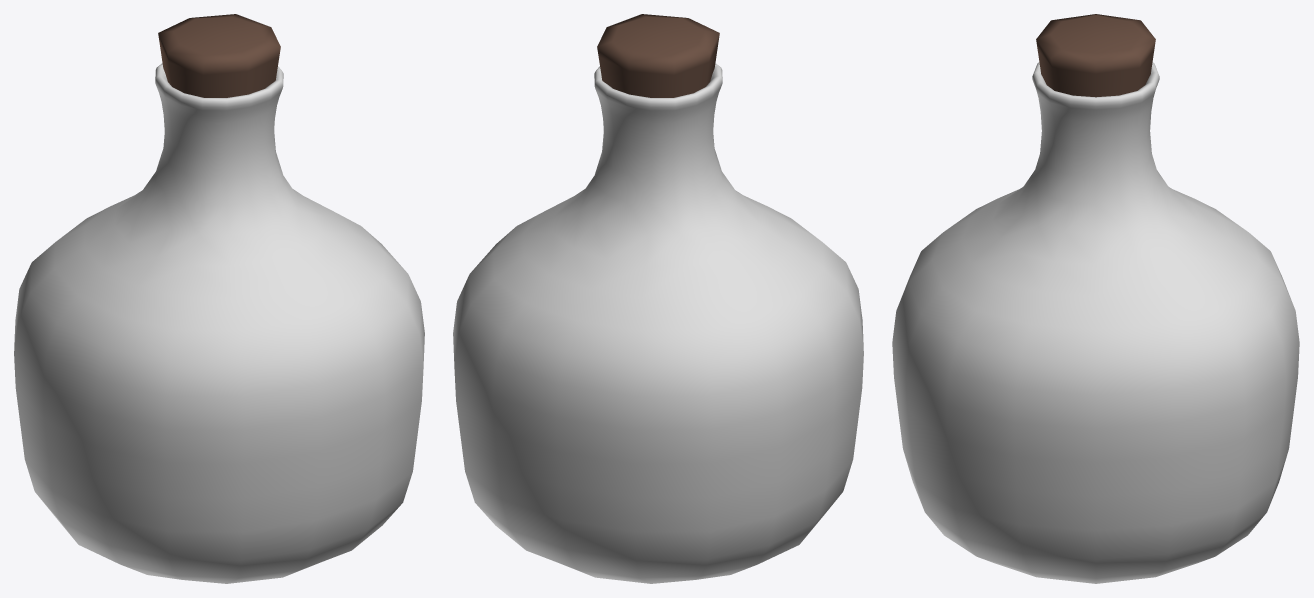
Rendered from potion2_filled.glb.
The picture shows the model from 3 angles, left to right: view 1: azimuth 30°, elevation 25°; view 2: azimuth 150°, elevation 25°; view 3: azimuth 270°, elevation 25°; orthographic projection.
Parts seen in each view (by area): view 1: Potion2_Filled; view 2: Potion2_Filled; view 3: Potion2_Filled.
Part boxes in pixels (left/top/right/bottom): Potion2_Filled: left=14, top=14, right=424, bottom=583; Potion2_Filled: left=453, top=14, right=863, bottom=583; Potion2_Filled: left=892, top=14, right=1299, bottom=583.
Size of the model in its own units: 0.8768 by 1.22 by 0.8768.
